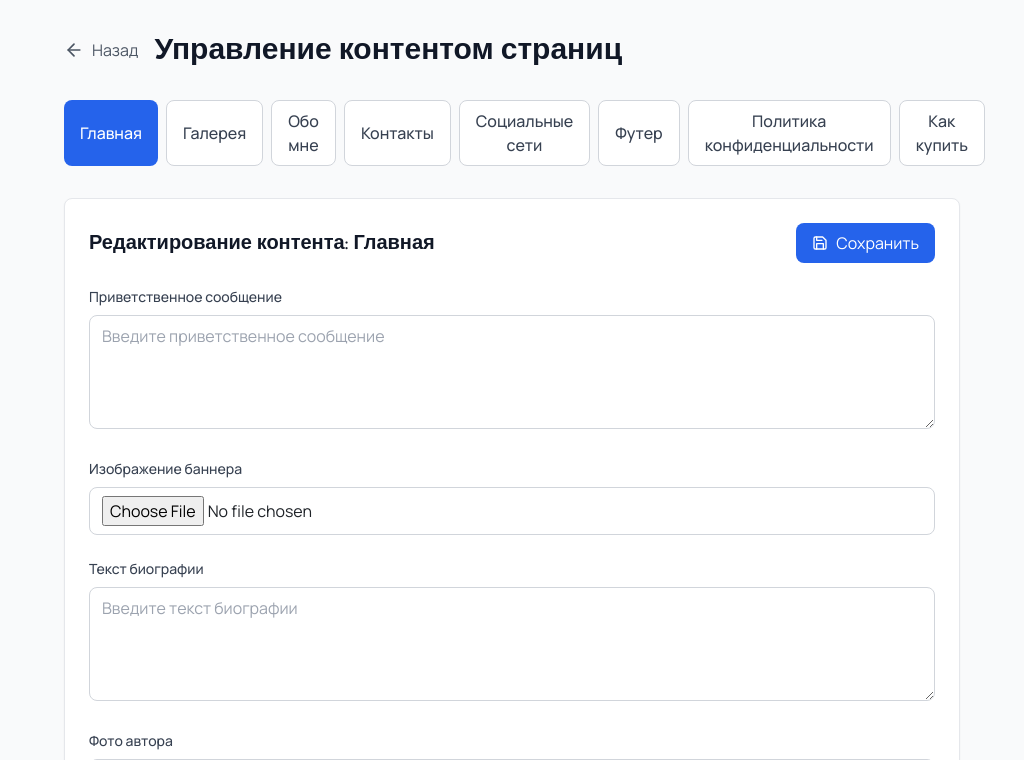
Scenario: T018 admin panel edits the privacy policy text › lists the privacy section with a body textarea and the default-text hint
Expected: the text "Приветственное сообщение" is shown, [89, 287, 282, 306]
Click the button "Политика конфиденциальности". click: (789, 133)
box: [688, 100, 891, 166]
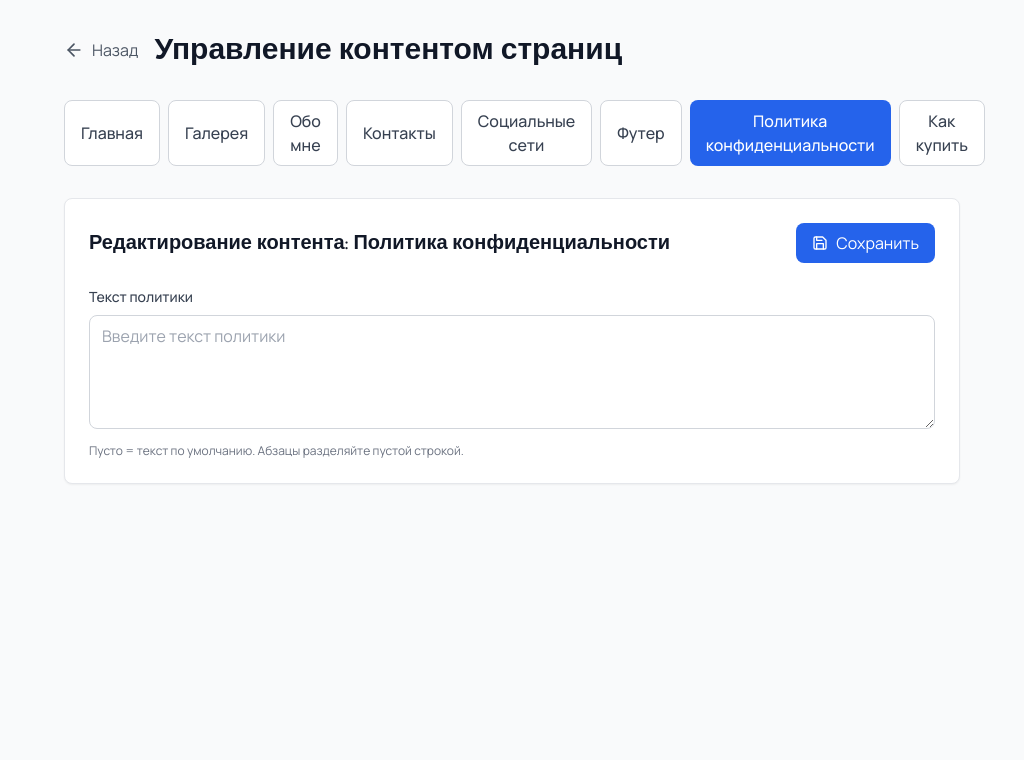
Result: the text "Текст политики" is shown at [89, 287, 193, 306]
Result: the text "Пусто = текст по умолчанию" is shown at [89, 442, 464, 459]
